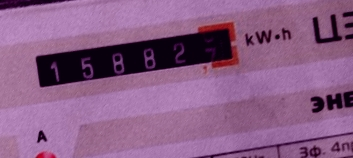1: (47, 57, 63, 85)
2: (170, 39, 189, 66)
5: (78, 54, 96, 81)
7: (202, 44, 219, 63)
8: (109, 49, 128, 76), (140, 45, 159, 71)
screen: (24, 15, 249, 102)
